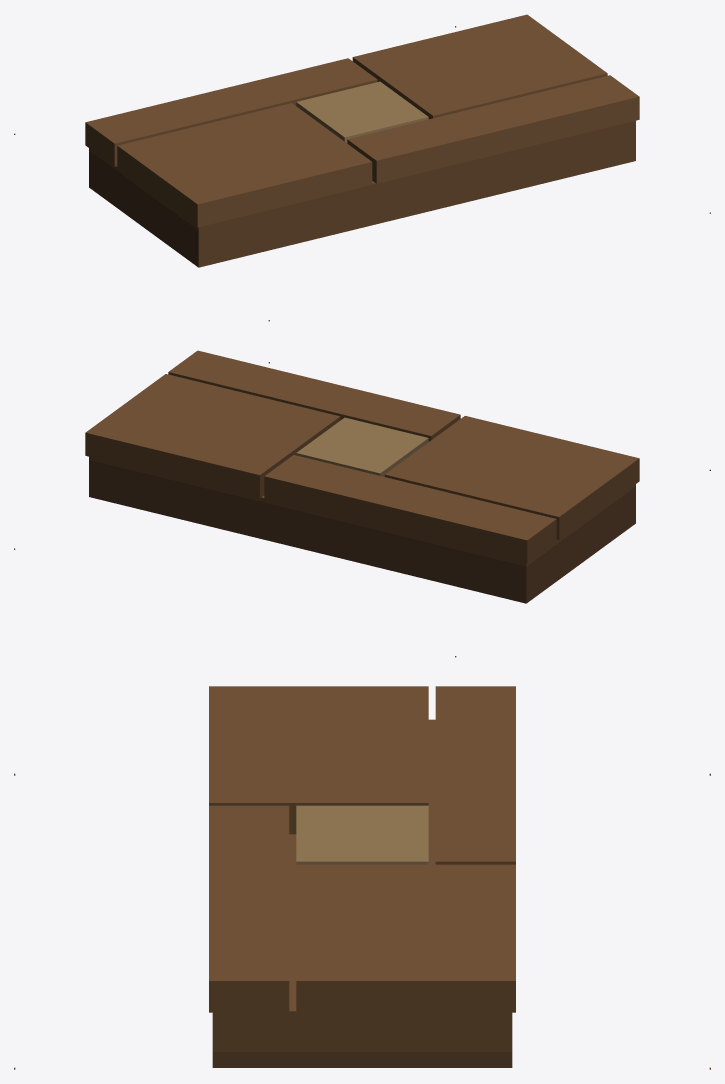
File: floor_wood_straight.glb
The picture shows the model from 3 angles, top to bottom: view 1: azimuth 30°, elevation 25°; view 2: azimuth 150°, elevation 25°; view 3: azimuth 270°, elevation 25°; orthographic projection. The views are drawn at different scales.
Bounding box in the file's own units: 1 × 0.14 × 1.
1 material, 1 textured.
